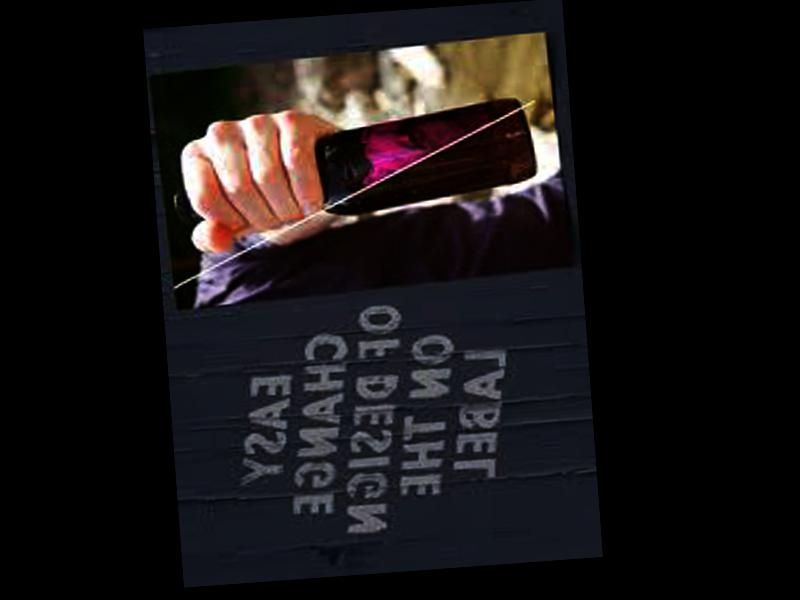Beer: (171, 101, 538, 228)
